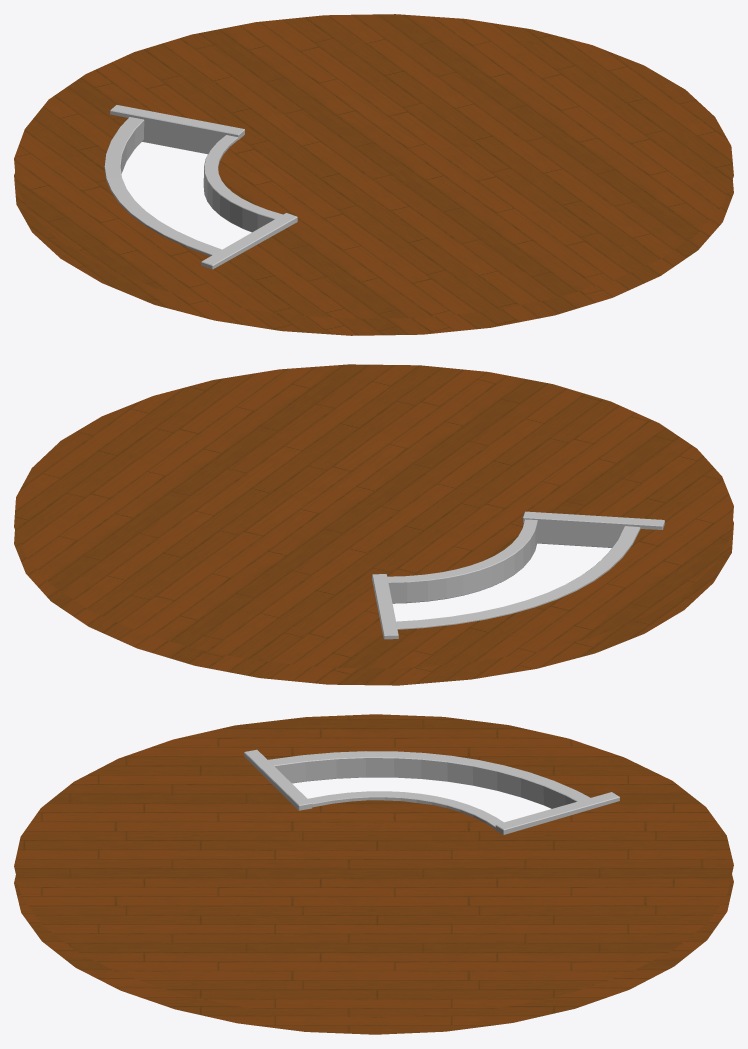
The model's file is SM_FloorWood_Top.fbx.
3 renders of one model, top to bottom at view 1: azimuth 30°, elevation 25°; view 2: azimuth 150°, elevation 25°; view 3: azimuth 270°, elevation 25°, orthographic.
Visible parts, largest first — view 1: SM_FloorWood_Top; view 2: SM_FloorWood_Top; view 3: SM_FloorWood_Top.
Boxes of the visible parts, x1=… form: SM_FloorWood_Top: x1=14, y1=14, x2=733, y2=335; SM_FloorWood_Top: x1=14, y1=364, x2=733, y2=685; SM_FloorWood_Top: x1=14, y1=714, x2=733, y2=1034.
Bounding box in the file's own units: 15.25 × 0.6286 × 15.28.
